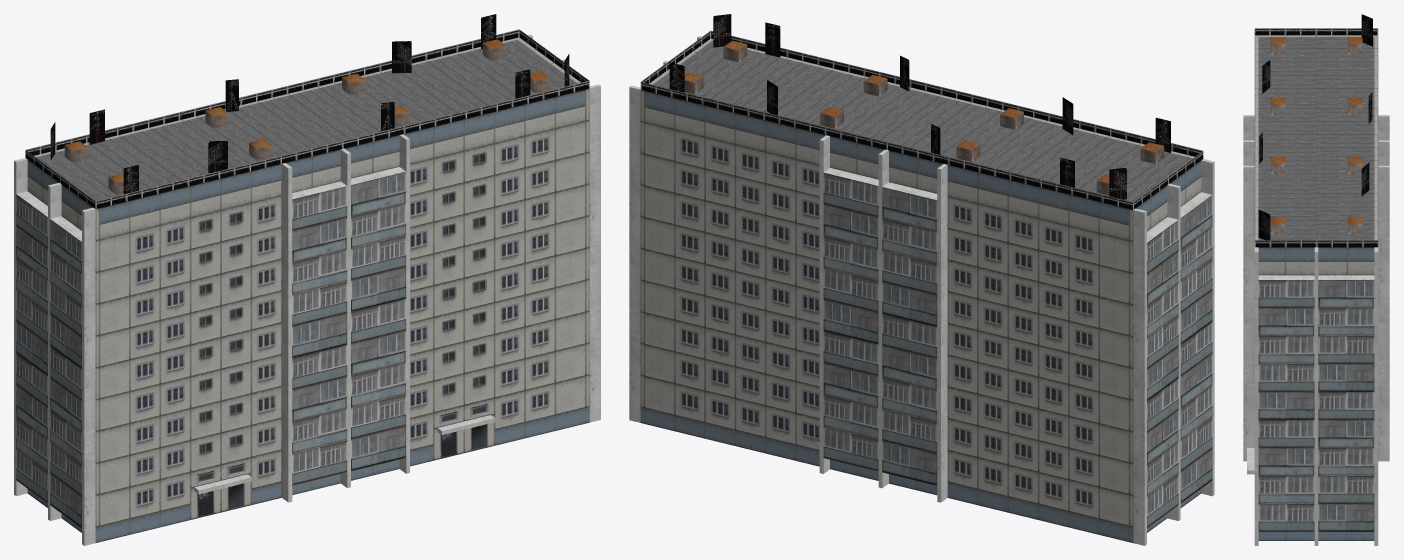
The model's file is rus_build_9et_03b.fbx.
The picture shows the model from 3 angles, left to right: view 1: azimuth 30°, elevation 25°; view 2: azimuth 150°, elevation 25°; view 3: azimuth 270°, elevation 25°; orthographic projection. The views are drawn at different scales.
Visible parts, largest first — view 1: Regroup13, rus_build_dec_01; view 2: Regroup13, rus_build_dec_01; view 3: Regroup13, rus_build_dec_01.
Boxes of the visible parts, x1=… form: Regroup13: x1=14, y1=34, x2=600, y2=545; rus_build_dec_01: x1=25, y1=14, x2=589, y2=208; Regroup13: x1=629, y1=36, x2=1214, y2=545; rus_build_dec_01: x1=640, y1=14, x2=1203, y2=209; Regroup13: x1=1243, y1=35, x2=1389, y2=545; rus_build_dec_01: x1=1254, y1=14, x2=1378, y2=247.
Size of the model in its own units: 4760 by 3220 by 1330.
